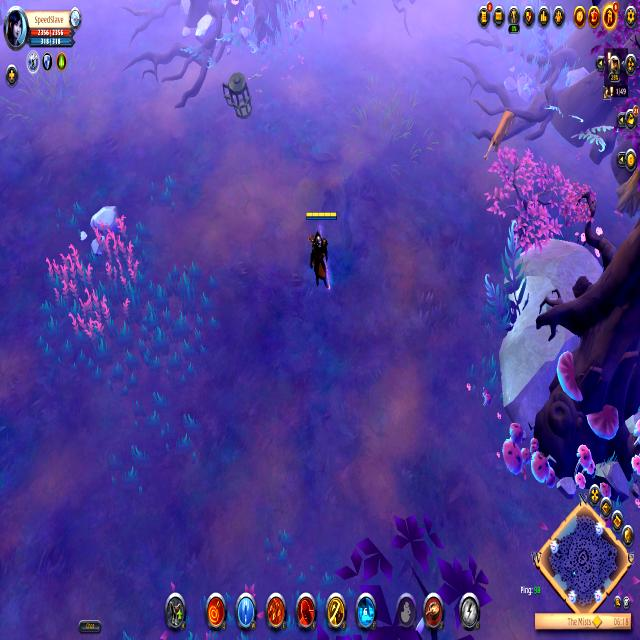ore: (483, 104, 517, 168)
red: (300, 202, 340, 296)
